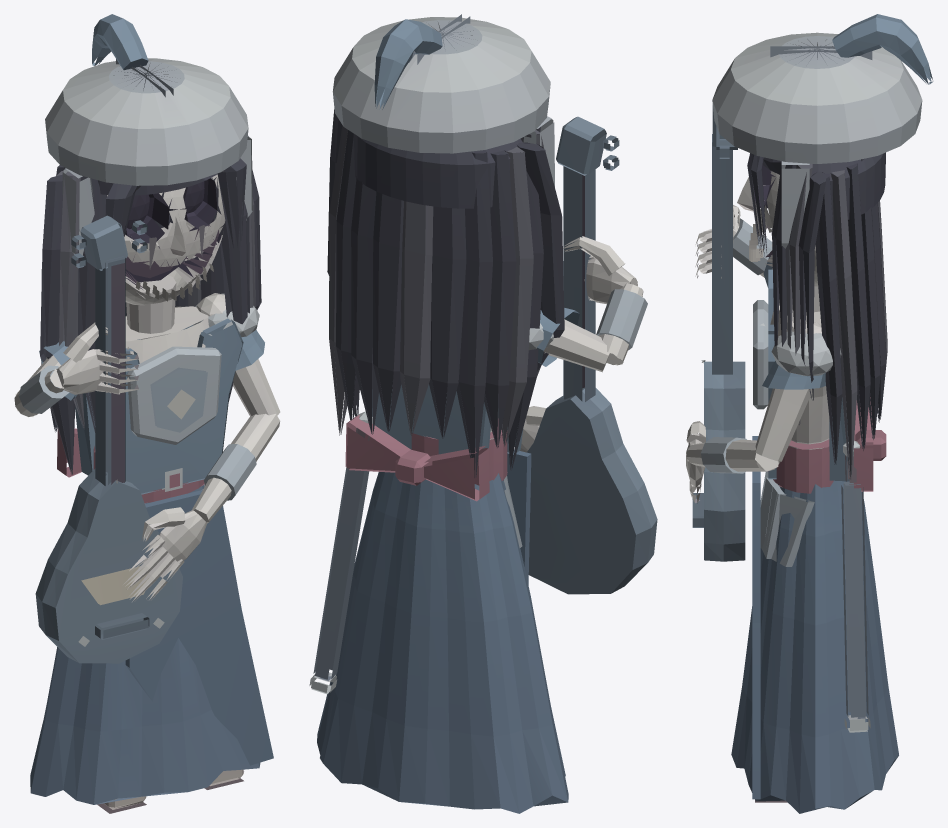
Rendered from MimicKnight.glb.
3 views of the same model, side by side, from view 1: azimuth 30°, elevation 25°; view 2: azimuth 150°, elevation 25°; view 3: azimuth 270°, elevation 25° (orthographic). The views are drawn at different scales.
Parts seen in each view (by area): view 1: Body, Head, ArmL, ArmR; view 2: Body, Head, ArmR, ArmL; view 3: Body, Head, ArmL, ArmR.
Boxes of the visible parts, bbox=[...] form: Body: bbox=[30, 215, 273, 804]; Head: bbox=[40, 14, 261, 474]; ArmL: bbox=[123, 293, 280, 601]; ArmR: bbox=[14, 322, 139, 416]; Body: bbox=[309, 116, 657, 813]; Head: bbox=[327, 14, 564, 477]; ArmR: bbox=[528, 236, 647, 372]; ArmL: bbox=[520, 406, 546, 452]; Body: bbox=[692, 105, 898, 813]; Head: bbox=[712, 14, 933, 479]; ArmL: bbox=[686, 322, 841, 503]; ArmR: bbox=[695, 205, 772, 287].
Bounding box in the file's own units: 3.09 × 8.08 × 2.41.
